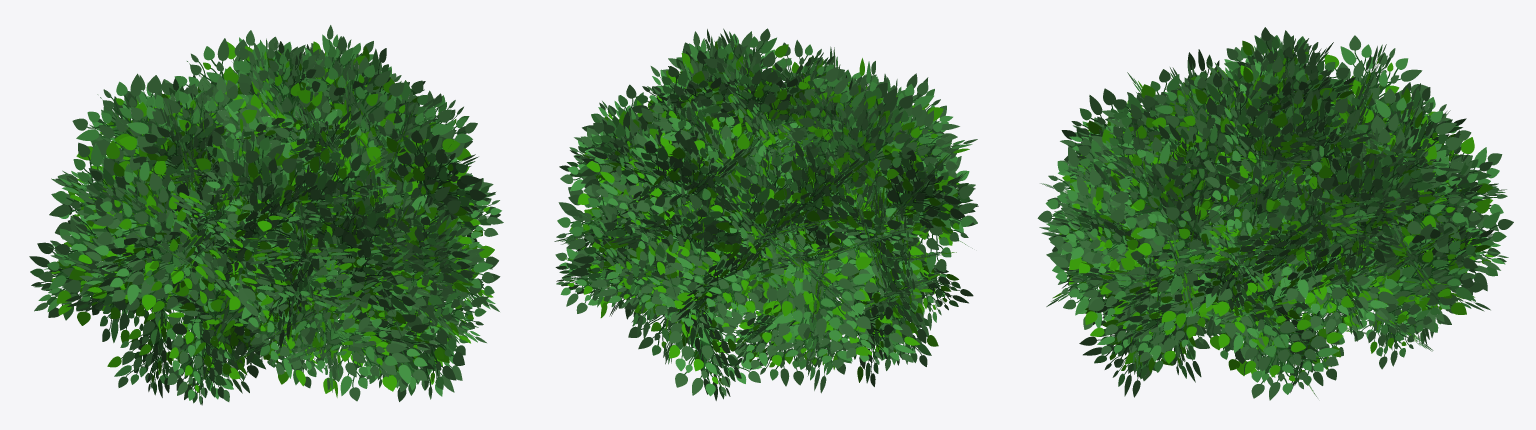
The model's file is Bush.fbx.
3 views of the same model, side by side, from view 1: azimuth 30°, elevation 25°; view 2: azimuth 150°, elevation 25°; view 3: azimuth 270°, elevation 25° (orthographic). The views are drawn at different scales.
Visible parts, largest first — view 1: Bush_LOD00; view 2: Bush_LOD00; view 3: Bush_LOD00.
Boxes of the visible parts, x1=… form: Bush_LOD00: x1=29, y1=25, x2=503, y2=405; Bush_LOD00: x1=554, y1=28, x2=978, y2=400; Bush_LOD00: x1=1037, y1=27, x2=1513, y2=400.
Size of what is drawn, in the model's own units: 176 by 126 by 175.
